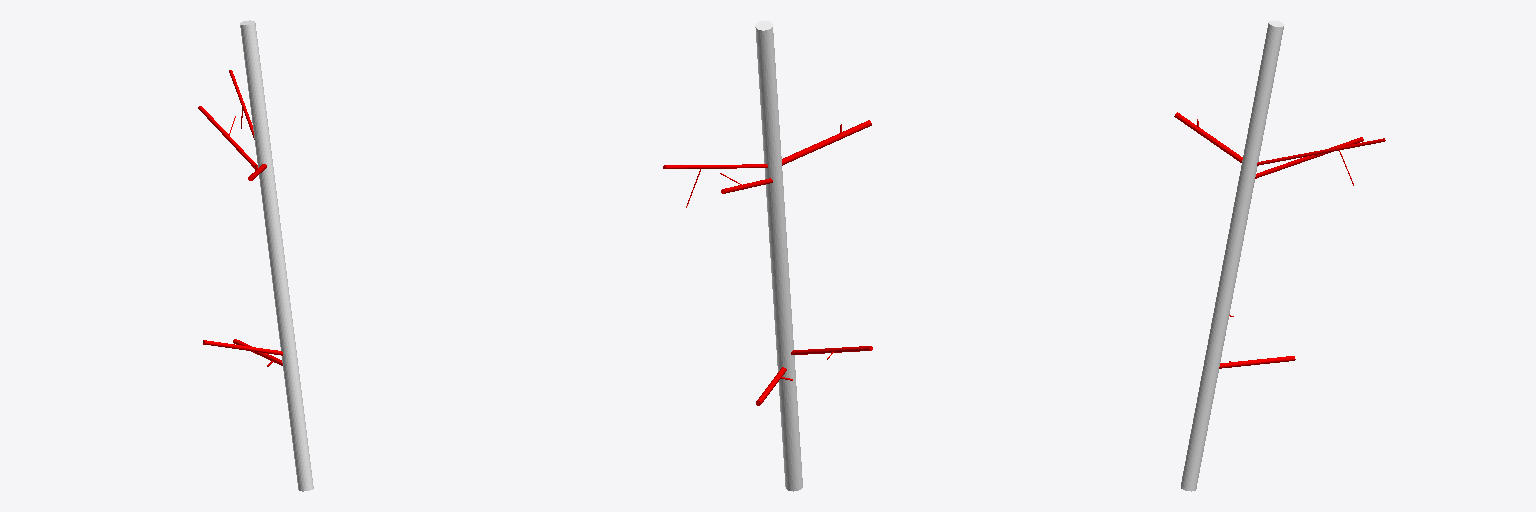
robot.urdf — tree_23.urdf:
<?xml version='1.0' encoding='UTF-8'?>
<robot name="tree_23.urdf">
  <link name="branch_0">
    <inertial>
      <origin xyz="0.0 0.0 0.0" rpy="0.0 -0.0 0.0"/>
      <mass value="0.1"/>
      <inertia ixx="0.001" ixy="0.0" ixz="0.0" iyy="0.001" iyz="0.0" izz="0.001"/>
    </inertial>
    <visual name="branch_0_visual">
      <geometry>
        <cylinder radius="0.14450869309392778" length="9.178744560416302"/>
      </geometry>
      <material name="branch_material"/>
      <origin xyz="-0.17261987206288446 0.7903274947557005 4.517512895072369" rpy="6.938893903907228e-18 0.17719375431047255 1.7858348969113977"/>
    </visual>
    <collision name="branch_0_collision">
      <geometry>
        <cylinder radius="0.14450869309392778" length="9.178744560416302"/>
      </geometry>
      <origin xyz="-0.17261987206288446 0.7903274947557005 4.517512895072369" rpy="6.938893903907228e-18 0.17719375431047255 1.7858348969113977"/>
    </collision>
  </link>
  <link name="branch_1">
    <inertial>
      <origin xyz="0.0 0.0 0.0" rpy="0.0 -0.0 0.0"/>
      <mass value="0.1"/>
      <inertia ixx="0.001" ixy="0.0" ixz="0.0" iyy="0.001" iyz="0.0" izz="0.001"/>
    </inertial>
    <visual name="branch_1_visual">
      <geometry>
        <cylinder radius="0.04756565150840191" length="1.5378109451964952"/>
      </geometry>
      <material name="semantic_material"/>
      <origin xyz="0.0 0.0 0.0" rpy="0.0 -0.0 0.0"/>
    </visual>
    <collision name="branch_1_collision">
      <geometry>
        <cylinder radius="0.04756565150840191" length="1.5378109451964952"/>
      </geometry>
      <origin xyz="0.0 0.0 0.0" rpy="0.0 -0.0 0.0"/>
    </collision>
  </link>
  <link name="branch_2">
    <inertial>
      <origin xyz="0.0 0.0 0.0" rpy="0.0 -0.0 0.0"/>
      <mass value="0.1"/>
      <inertia ixx="0.001" ixy="0.0" ixz="0.0" iyy="0.001" iyz="0.0" izz="0.001"/>
    </inertial>
    <visual name="branch_2_visual">
      <geometry>
        <cylinder radius="0.015616276613277155" length="0.2452142444286544"/>
      </geometry>
      <material name="semantic_material"/>
      <origin xyz="0.0 0.0 0.0" rpy="0.0 -0.0 0.0"/>
    </visual>
    <collision name="branch_2_collision">
      <geometry>
        <cylinder radius="0.015616276613277155" length="0.2452142444286544"/>
      </geometry>
      <origin xyz="0.0 0.0 0.0" rpy="0.0 -0.0 0.0"/>
    </collision>
  </link>
  <link name="branch_3">
    <inertial>
      <origin xyz="0.0 0.0 0.0" rpy="0.0 -0.0 0.0"/>
      <mass value="0.1"/>
      <inertia ixx="0.001" ixy="0.0" ixz="0.0" iyy="0.001" iyz="0.0" izz="0.001"/>
    </inertial>
    <visual name="branch_3_visual">
      <geometry>
        <cylinder radius="0.05078355271684447" length="1.774852706010634"/>
      </geometry>
      <material name="semantic_material"/>
      <origin xyz="0.0 0.0 0.0" rpy="0.0 -0.0 0.0"/>
    </visual>
    <collision name="branch_3_collision">
      <geometry>
        <cylinder radius="0.05078355271684447" length="1.774852706010634"/>
      </geometry>
      <origin xyz="0.0 0.0 0.0" rpy="0.0 -0.0 0.0"/>
    </collision>
  </link>
  <link name="branch_4">
    <inertial>
      <origin xyz="0.0 0.0 0.0" rpy="0.0 -0.0 0.0"/>
      <mass value="0.1"/>
      <inertia ixx="0.001" ixy="0.0" ixz="0.0" iyy="0.001" iyz="0.0" izz="0.001"/>
    </inertial>
    <visual name="branch_4_visual">
      <geometry>
        <cylinder radius="0.01564696338291104" length="0.21111647574509884"/>
      </geometry>
      <material name="semantic_material"/>
      <origin xyz="0.0 0.0 0.0" rpy="0.0 -0.0 0.0"/>
    </visual>
    <collision name="branch_4_collision">
      <geometry>
        <cylinder radius="0.01564696338291104" length="0.21111647574509884"/>
      </geometry>
      <origin xyz="0.0 0.0 0.0" rpy="0.0 -0.0 0.0"/>
    </collision>
  </link>
  <link name="branch_5">
    <inertial>
      <origin xyz="0.0 0.0 0.0" rpy="0.0 -0.0 0.0"/>
      <mass value="0.1"/>
      <inertia ixx="0.001" ixy="0.0" ixz="0.0" iyy="0.001" iyz="0.0" izz="0.001"/>
    </inertial>
    <visual name="branch_5_visual">
      <geometry>
        <cylinder radius="0.041102523949937526" length="1.833381674044333"/>
      </geometry>
      <material name="semantic_material"/>
      <origin xyz="0.0 0.0 0.0" rpy="0.0 -0.0 0.0"/>
    </visual>
    <collision name="branch_5_collision">
      <geometry>
        <cylinder radius="0.041102523949937526" length="1.833381674044333"/>
      </geometry>
      <origin xyz="0.0 0.0 0.0" rpy="0.0 -0.0 0.0"/>
    </collision>
  </link>
  <link name="branch_6">
    <inertial>
      <origin xyz="0.0 0.0 0.0" rpy="0.0 -0.0 0.0"/>
      <mass value="0.1"/>
      <inertia ixx="0.001" ixy="0.0" ixz="0.0" iyy="0.001" iyz="0.0" izz="0.001"/>
    </inertial>
    <visual name="branch_6_visual">
      <geometry>
        <cylinder radius="0.01" length="0.25995191970760245"/>
      </geometry>
      <material name="semantic_material"/>
      <origin xyz="0.0 0.0 0.0" rpy="0.0 -0.0 0.0"/>
    </visual>
    <collision name="branch_6_collision">
      <geometry>
        <cylinder radius="0.01" length="0.25995191970760245"/>
      </geometry>
      <origin xyz="0.0 0.0 0.0" rpy="0.0 -0.0 0.0"/>
    </collision>
  </link>
  <link name="branch_7">
    <inertial>
      <origin xyz="0.0 0.0 0.0" rpy="0.0 -0.0 0.0"/>
      <mass value="0.1"/>
      <inertia ixx="0.001" ixy="0.0" ixz="0.0" iyy="0.001" iyz="0.0" izz="0.001"/>
    </inertial>
    <visual name="branch_7_visual">
      <geometry>
        <cylinder radius="0.032197887343114795" length="2.6403133011976574"/>
      </geometry>
      <material name="semantic_material"/>
      <origin xyz="0.0 0.0 0.0" rpy="0.0 -0.0 0.0"/>
    </visual>
    <collision name="branch_7_collision">
      <geometry>
        <cylinder radius="0.032197887343114795" length="2.6403133011976574"/>
      </geometry>
      <origin xyz="0.0 0.0 0.0" rpy="0.0 -0.0 0.0"/>
    </collision>
  </link>
  <link name="branch_8">
    <inertial>
      <origin xyz="0.0 0.0 0.0" rpy="0.0 -0.0 0.0"/>
      <mass value="0.1"/>
      <inertia ixx="0.001" ixy="0.0" ixz="0.0" iyy="0.001" iyz="0.0" izz="0.001"/>
    </inertial>
    <visual name="branch_8_visual">
      <geometry>
        <cylinder radius="0.01" length="0.7327083031947754"/>
      </geometry>
      <material name="semantic_material"/>
      <origin xyz="0.0 0.0 0.0" rpy="0.0 -0.0 0.0"/>
    </visual>
    <collision name="branch_8_collision">
      <geometry>
        <cylinder radius="0.01" length="0.7327083031947754"/>
      </geometry>
      <origin xyz="0.0 0.0 0.0" rpy="0.0 -0.0 0.0"/>
    </collision>
  </link>
  <link name="branch_9">
    <inertial>
      <origin xyz="0.0 0.0 0.0" rpy="0.0 -0.0 0.0"/>
      <mass value="0.1"/>
      <inertia ixx="0.001" ixy="0.0" ixz="0.0" iyy="0.001" iyz="0.0" izz="0.001"/>
    </inertial>
    <visual name="branch_9_visual">
      <geometry>
        <cylinder radius="0.04160704099930328" length="2.211631773905552"/>
      </geometry>
      <material name="semantic_material"/>
      <origin xyz="0.0 0.0 0.0" rpy="0.0 -0.0 0.0"/>
    </visual>
    <collision name="branch_9_collision">
      <geometry>
        <cylinder radius="0.04160704099930328" length="2.211631773905552"/>
      </geometry>
      <origin xyz="0.0 0.0 0.0" rpy="0.0 -0.0 0.0"/>
    </collision>
  </link>
  <link name="branch_10">
    <inertial>
      <origin xyz="0.0 0.0 0.0" rpy="0.0 -0.0 0.0"/>
      <mass value="0.1"/>
      <inertia ixx="0.001" ixy="0.0" ixz="0.0" iyy="0.001" iyz="0.0" izz="0.001"/>
    </inertial>
    <visual name="branch_10_visual">
      <geometry>
        <cylinder radius="0.01" length="0.4857619616942051"/>
      </geometry>
      <material name="semantic_material"/>
      <origin xyz="0.0 0.0 0.0" rpy="0.0 -0.0 0.0"/>
    </visual>
    <collision name="branch_10_collision">
      <geometry>
        <cylinder radius="0.01" length="0.4857619616942051"/>
      </geometry>
      <origin xyz="0.0 0.0 0.0" rpy="0.0 -0.0 0.0"/>
    </collision>
  </link>
  <joint name="joint_0_1" type="fixed">
    <parent link="branch_0"/>
    <child link="branch_1"/>
    <axis xyz="1. 0. 0."/>
    <origin xyz="-0.2599742824115244 1.162384898314185 2.3653038967004303" rpy="0.1439513960596348 1.5611180326960994 1.9375329058826798"/>
  </joint>
  <joint name="joint_0_3" type="fixed">
    <parent link="branch_0"/>
    <child link="branch_3"/>
    <axis xyz="1. 0. 0."/>
    <origin xyz="-0.7791123176360647 0.44017125212105646 6.529546218542532" rpy="0.4417777297162277 1.250483614343179 -1.7950824309018765"/>
  </joint>
  <joint name="joint_0_5" type="fixed">
    <parent link="branch_0"/>
    <child link="branch_5"/>
    <axis xyz="1. 0. 0."/>
    <origin xyz="-0.9650337659197111 0.5552185315580849 2.8968910129804457" rpy="0.4985797007963213 1.2073429066179984 -2.727464833919371"/>
  </joint>
  <joint name="joint_0_7" type="fixed">
    <parent link="branch_0"/>
    <child link="branch_7"/>
    <axis xyz="1. 0. 0."/>
    <origin xyz="0.0851500706357568 2.312725020755515 6.6827034884193806" rpy="-0.27493156274654995 1.2475919093745342 1.020055673096926"/>
  </joint>
  <joint name="joint_0_9" type="fixed">
    <parent link="branch_0"/>
    <child link="branch_9"/>
    <axis xyz="1. 0. 0."/>
    <origin xyz="-0.350640262442415 2.094745265997084 6.353355859242636" rpy="-0.060500630198572915 1.2528643185934407 1.622592952214187"/>
  </joint>
  <joint name="joint_1_2" type="fixed">
    <parent link="branch_0"/>
    <child link="branch_2"/>
    <axis xyz="1. 0. 0."/>
    <origin xyz="-0.29744996422659226 0.7982278344114716 2.3380578922974076" rpy="1.7695014457212903 -0.036001867883390055 -1.1243201814396973"/>
  </joint>
  <joint name="joint_3_4" type="fixed">
    <parent link="branch_0"/>
    <child link="branch_4"/>
    <axis xyz="1. 0. 0."/>
    <origin xyz="-0.9858868774417296 0.1747905279875322 6.730731519431263" rpy="0.08212748013026948 -0.1036017613960164 0.8514016074813872"/>
  </joint>
  <joint name="joint_5_6" type="fixed">
    <parent link="branch_0"/>
    <child link="branch_6"/>
    <axis xyz="1. 0. 0."/>
    <origin xyz="-1.0974741484660102 0.6969656377097143 2.9116751884089163" rpy="-1.8073723989982127 0.32699420663890716 -0.07310333957384953"/>
  </joint>
  <joint name="joint_7_8" type="fixed">
    <parent link="branch_0"/>
    <child link="branch_8"/>
    <axis xyz="1. 0. 0."/>
    <origin xyz="0.25681551285705423 2.8343628689474905 6.47771378328824" rpy="-3.052877955010095 0.421405761099353 -1.8220723655898163"/>
  </joint>
  <joint name="joint_9_10" type="fixed">
    <parent link="branch_0"/>
    <child link="branch_10"/>
    <axis xyz="1. 0. 0."/>
    <origin xyz="-0.21525677322461087 2.387486874441939 6.543279933899105" rpy="-0.9767093273141435 -0.03482086129760922 -0.8971522069269845"/>
  </joint>
  <material name="branch_material">
    <color rgba="1. 1. 1. 1."/>
  </material>
  <material name="semantic_material">
    <color rgba="1. 0. 0. 1."/>
  </material>
</robot>

--- Render facts (derived) ---
The picture shows the robot from 3 angles, left to right: view 1: azimuth 30°, elevation 25°; view 2: azimuth 150°, elevation 25°; view 3: azimuth 270°, elevation 25°; orthographic projection.
Robot: tree_23.urdf — 11 links, 10 joints (10 fixed); root link branch_0; default pose: all joints at 0.
Visible links, largest first — view 1: branch_0; view 2: branch_0, branch_3; view 3: branch_0.
Link boxes in pixels (<box>): branch_0: <box>240,20,313,491</box>; branch_0: <box>755,21,802,491</box>; branch_3: <box>782,120,871,165</box>; branch_0: <box>1181,20,1283,491</box>.
Bounding box of the posed robot: 2.29 × 3.79 × 9.09 m (x, y, z).
Geometry: primitives only (box / cylinder / sphere), no mesh files.
